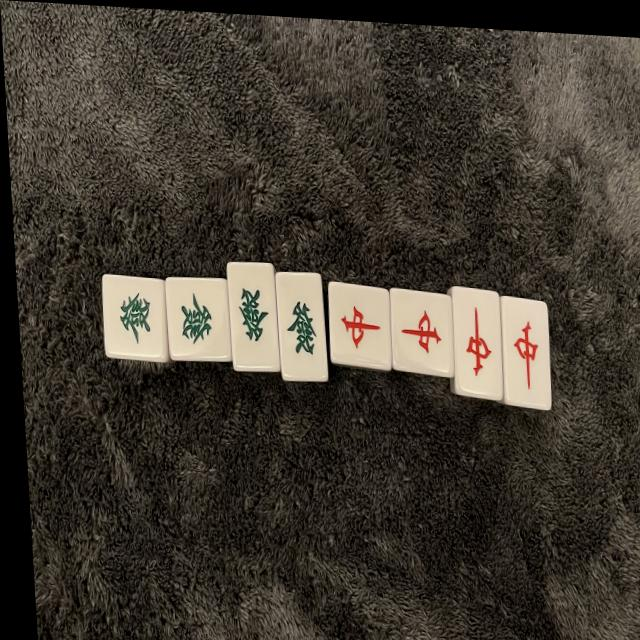GD: (226, 262, 281, 371), (275, 273, 328, 384), (104, 279, 165, 355), (169, 280, 229, 356)
RD: (497, 296, 552, 409), (450, 288, 505, 398), (386, 290, 454, 378), (327, 282, 394, 369)
